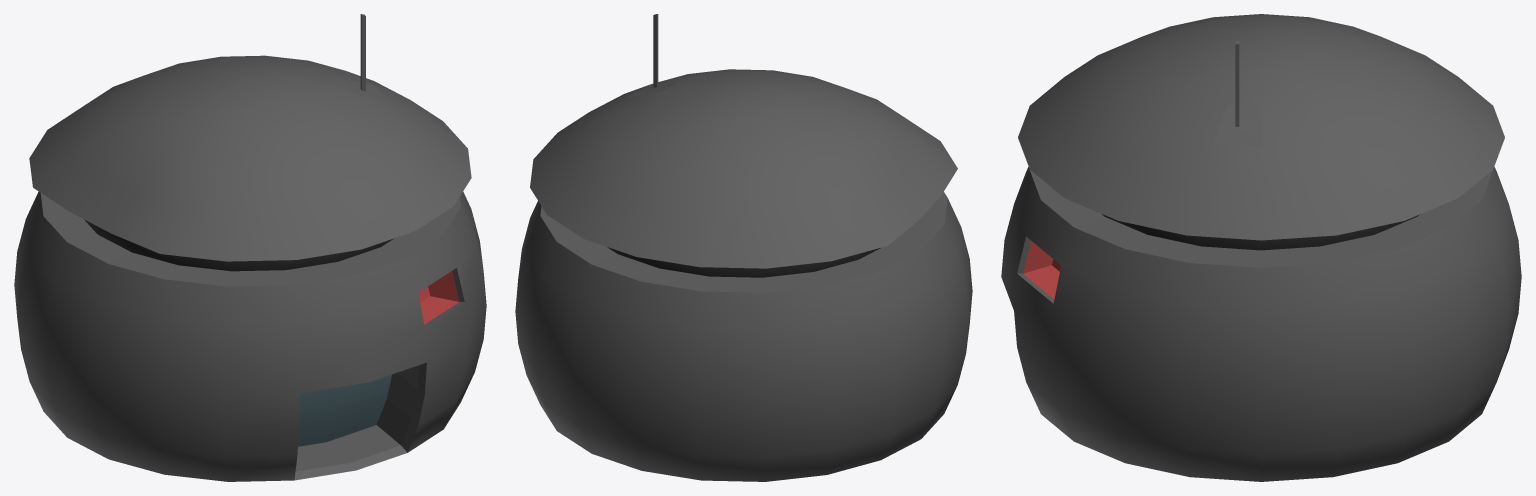
Rendered from House building.fbx.
The picture shows the model from 3 angles, left to right: view 1: azimuth 30°, elevation 25°; view 2: azimuth 150°, elevation 25°; view 3: azimuth 270°, elevation 25°; orthographic projection. The views are drawn at different scales.
Parts seen in each view (by area): view 1: pSphere13; view 2: pSphere13; view 3: pSphere13.
Boxes of the visible parts, bbox=[...] form: pSphere13: bbox=[14, 14, 486, 481]; pSphere13: bbox=[515, 14, 972, 481]; pSphere13: bbox=[1001, 14, 1521, 481].
Bounding box in the file's own units: 47.35 × 39.83 × 47.35.
